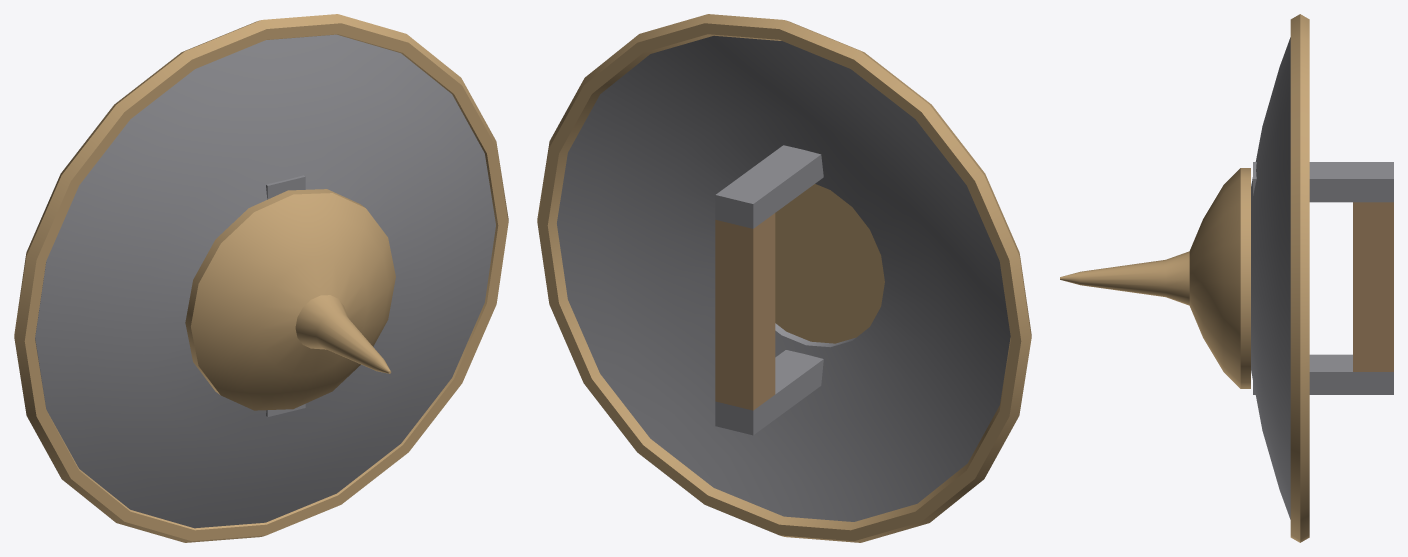
File: buckler.glb
3 renders of one model, left to right at view 1: azimuth 30°, elevation 25°; view 2: azimuth 150°, elevation 25°; view 3: azimuth 270°, elevation 25°, orthographic. The views are drawn at different scales.
Visible parts, largest first — view 1: OUT; view 2: OUT; view 3: OUT.
Part boxes in pixels (<box>): OUT: <box>14,14,508,542</box>; OUT: <box>537,14,1031,542</box>; OUT: <box>1060,14,1393,542</box>.
Bounding box in the file's own units: 0.313 × 0.313 × 0.196.
